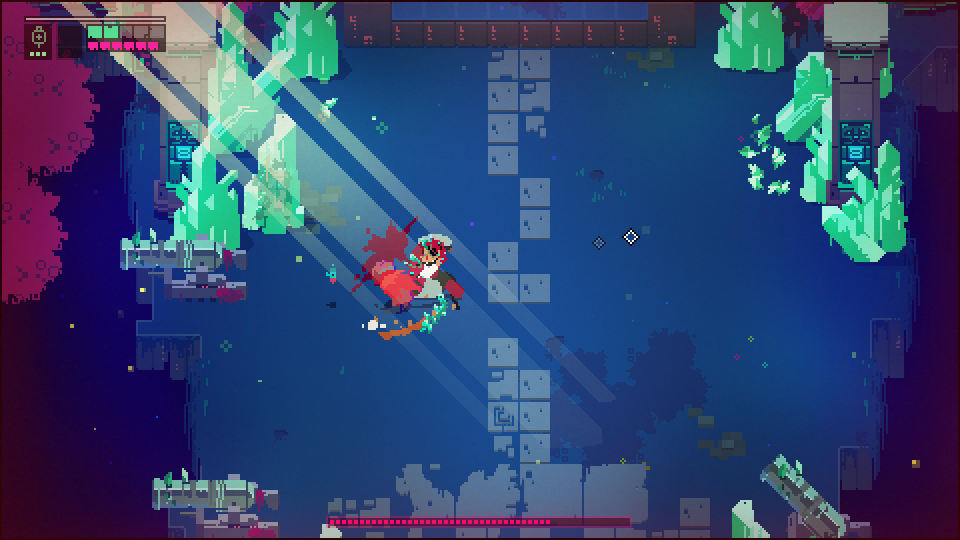hanged_man: (396, 231, 460, 335)
player: (369, 268, 416, 304)
